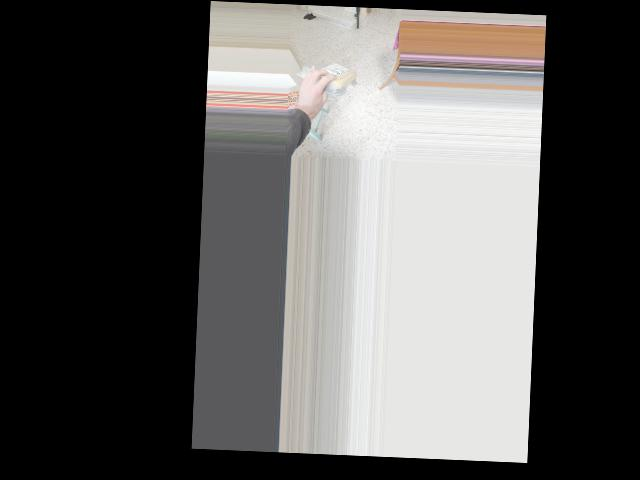cheese: (313, 61, 359, 92)
